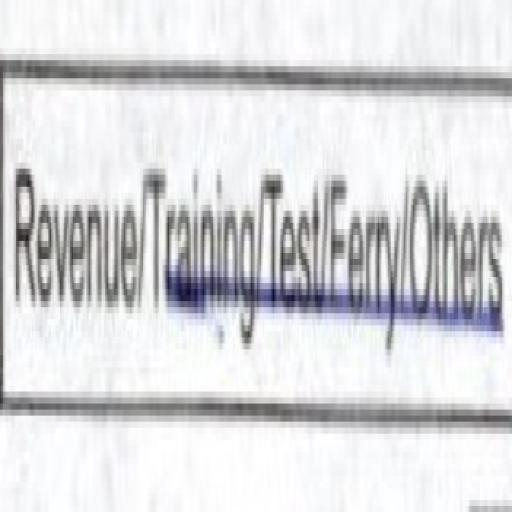check: (0, 0, 143, 482)
